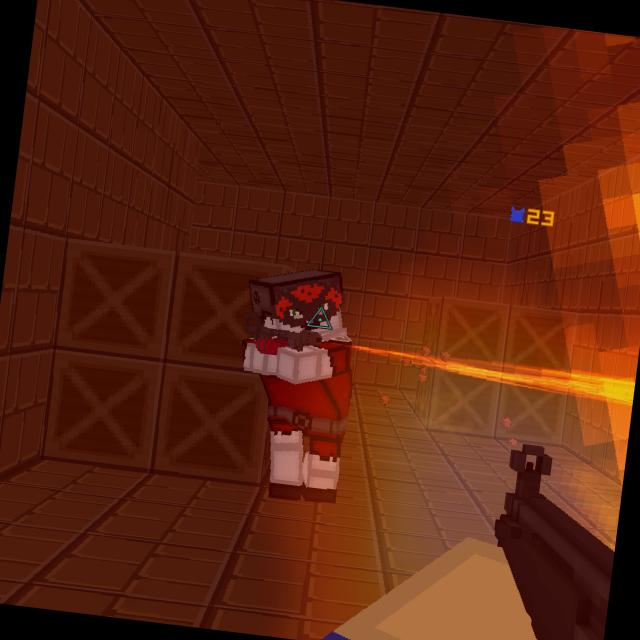enemy: (218, 255, 374, 509)
